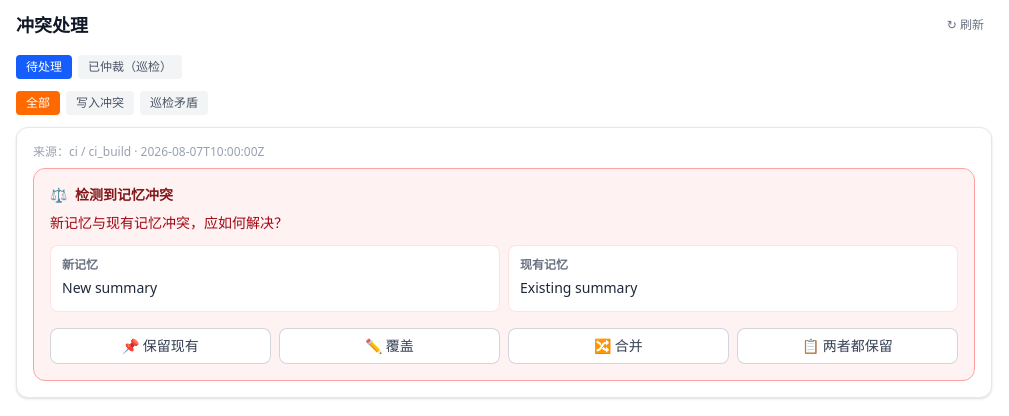
Test case: ConflictsPage › resolves a conflict via the API and removes it from the list
The image size is (1009, 416).
Expected: the text "检测到记忆冲突" is shown, [75,185,173,205]
Click the button "📌 保留现有".
click(160, 346)  # box [50,328,271,364]
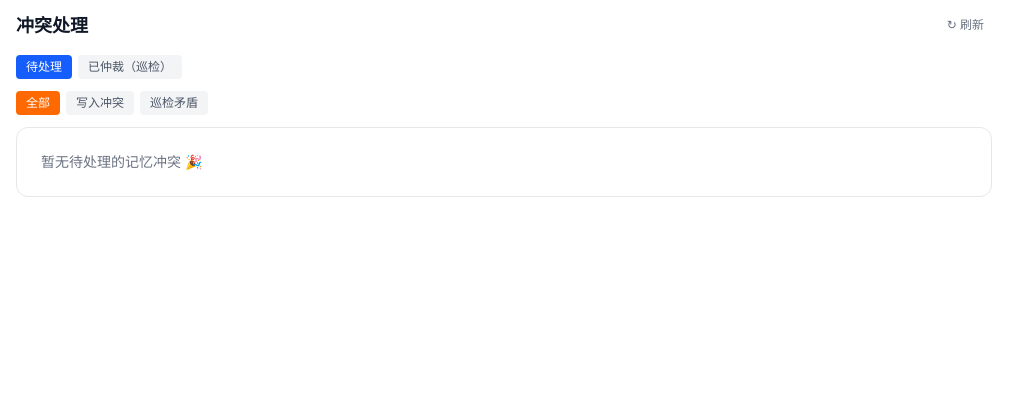
Result: the text "暂无待处理的记忆冲突 🎉" is shown at [16,127,992,197]
